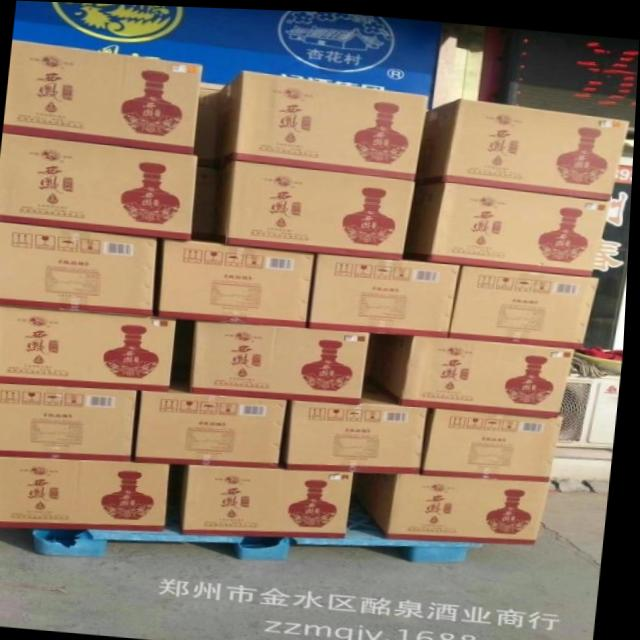box: (219, 68, 431, 177), (5, 39, 203, 154), (0, 134, 199, 239), (420, 96, 631, 195), (413, 181, 612, 272), (228, 160, 416, 256), (388, 332, 577, 414), (0, 305, 179, 390), (193, 319, 374, 403), (0, 222, 161, 314), (164, 236, 316, 325), (378, 469, 558, 541), (186, 463, 358, 536), (0, 457, 174, 529), (453, 263, 600, 346), (315, 251, 462, 333), (138, 387, 290, 465), (0, 383, 141, 459), (293, 394, 429, 470), (427, 405, 568, 478)
